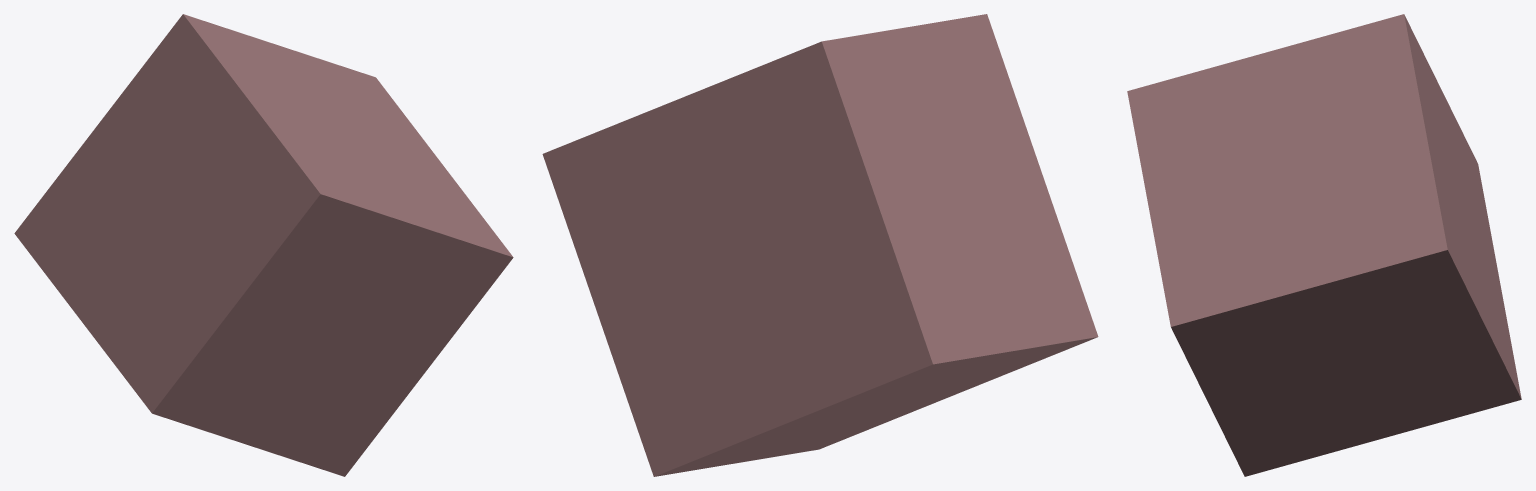
File: debris.glb
3 renders of one model, left to right at view 1: azimuth 30°, elevation 25°; view 2: azimuth 150°, elevation 25°; view 3: azimuth 270°, elevation 25°, orthographic. The views are drawn at different scales.
Visible parts, largest first — view 1: Chunk; view 2: Chunk; view 3: Chunk.
Part boxes in pixels (x1,y1,x2,y2): Chunk: [14, 14, 513, 476]; Chunk: [542, 14, 1098, 476]; Chunk: [1127, 14, 1521, 476].
Bounding box in the file's own units: 0.4141 × 0.483 × 0.4082.
